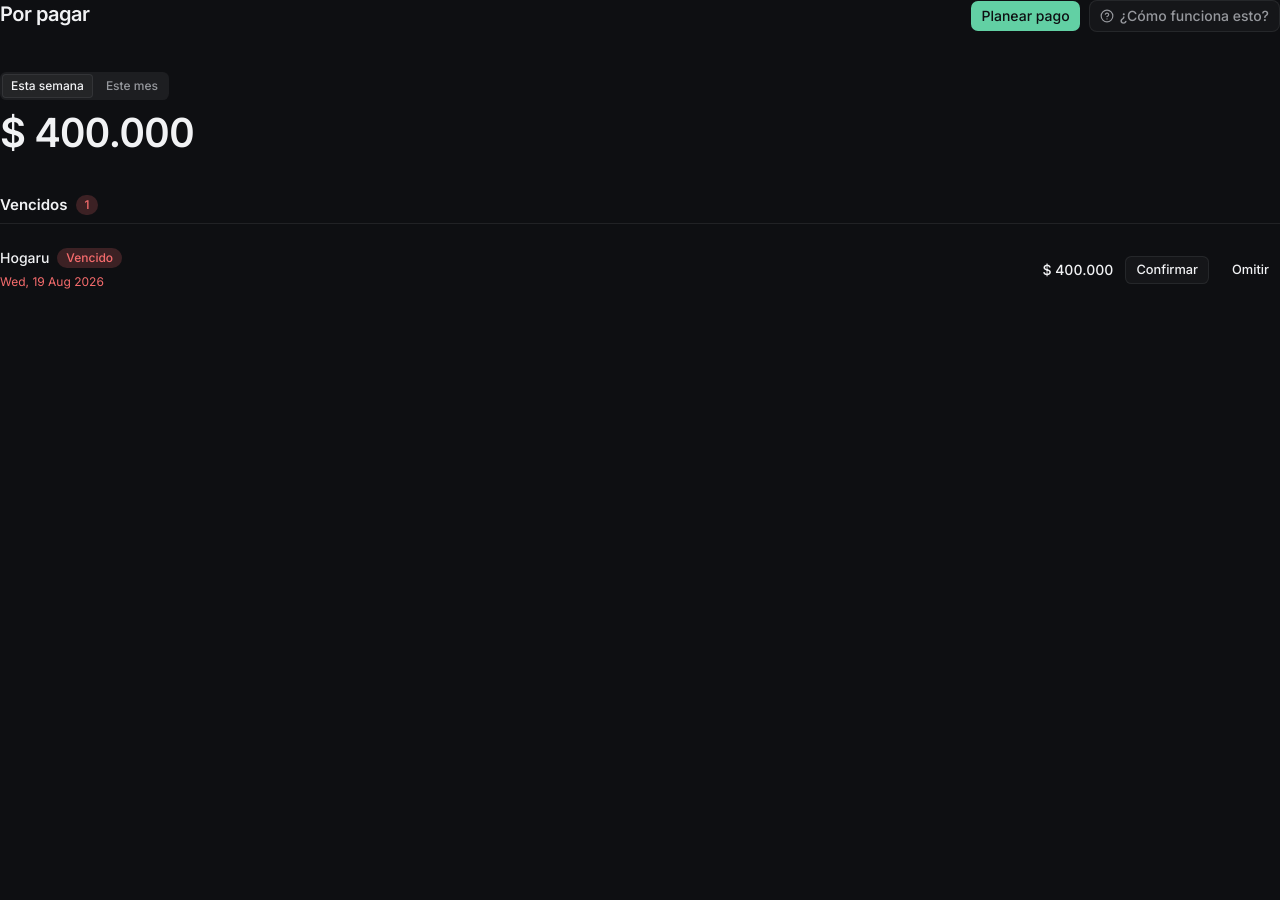
Test: 012 — confirming a payment says which account it came out of › The converted figure arrives already filled in
Click the button "Confirmar".
click(1167, 270)  # box [1125,256,1209,284]
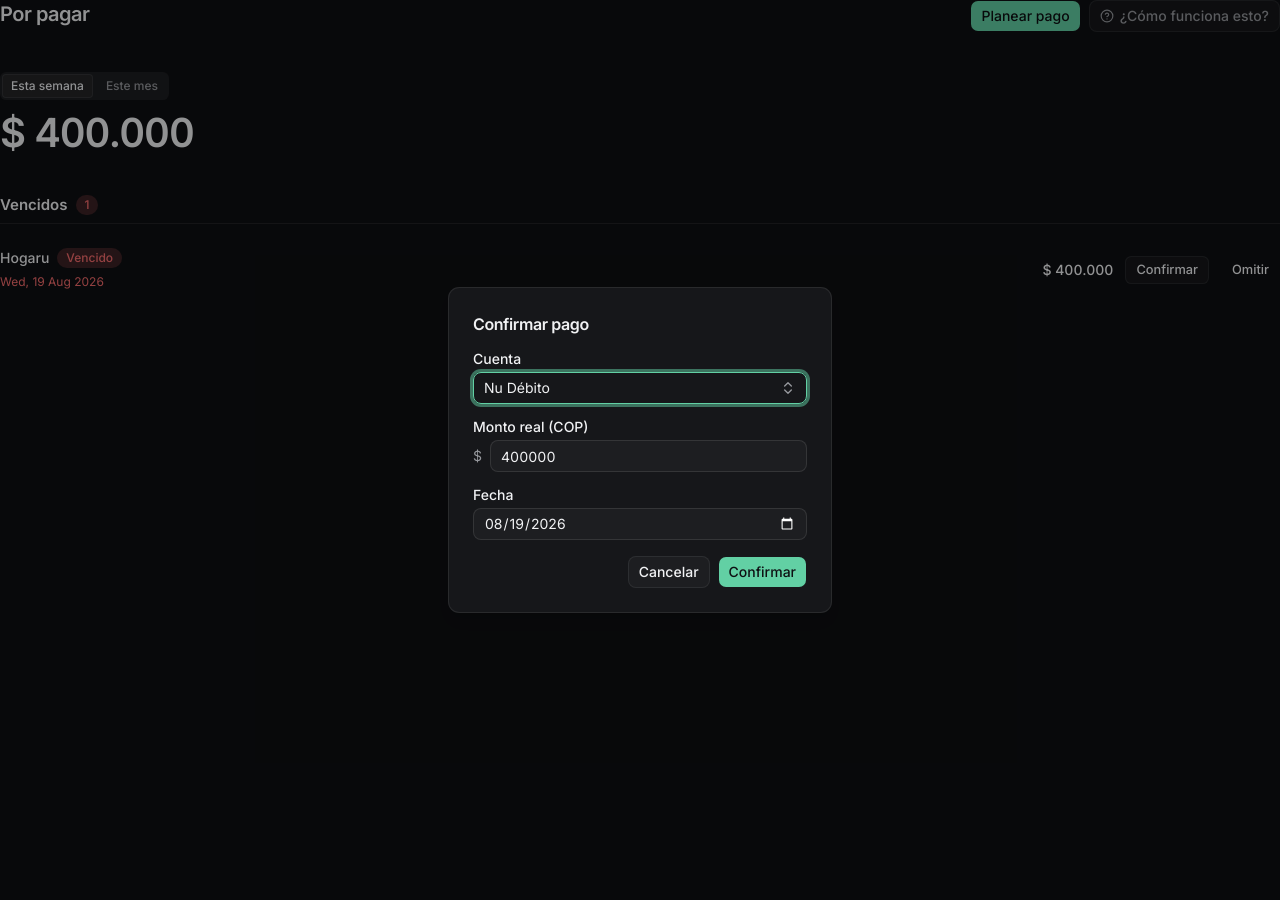
Expected: the dropdown named "Cuenta" reads "Nu Débito"
Click the dropdown named "Cuenta".
click(517, 388)  # box [473,372,807,404]
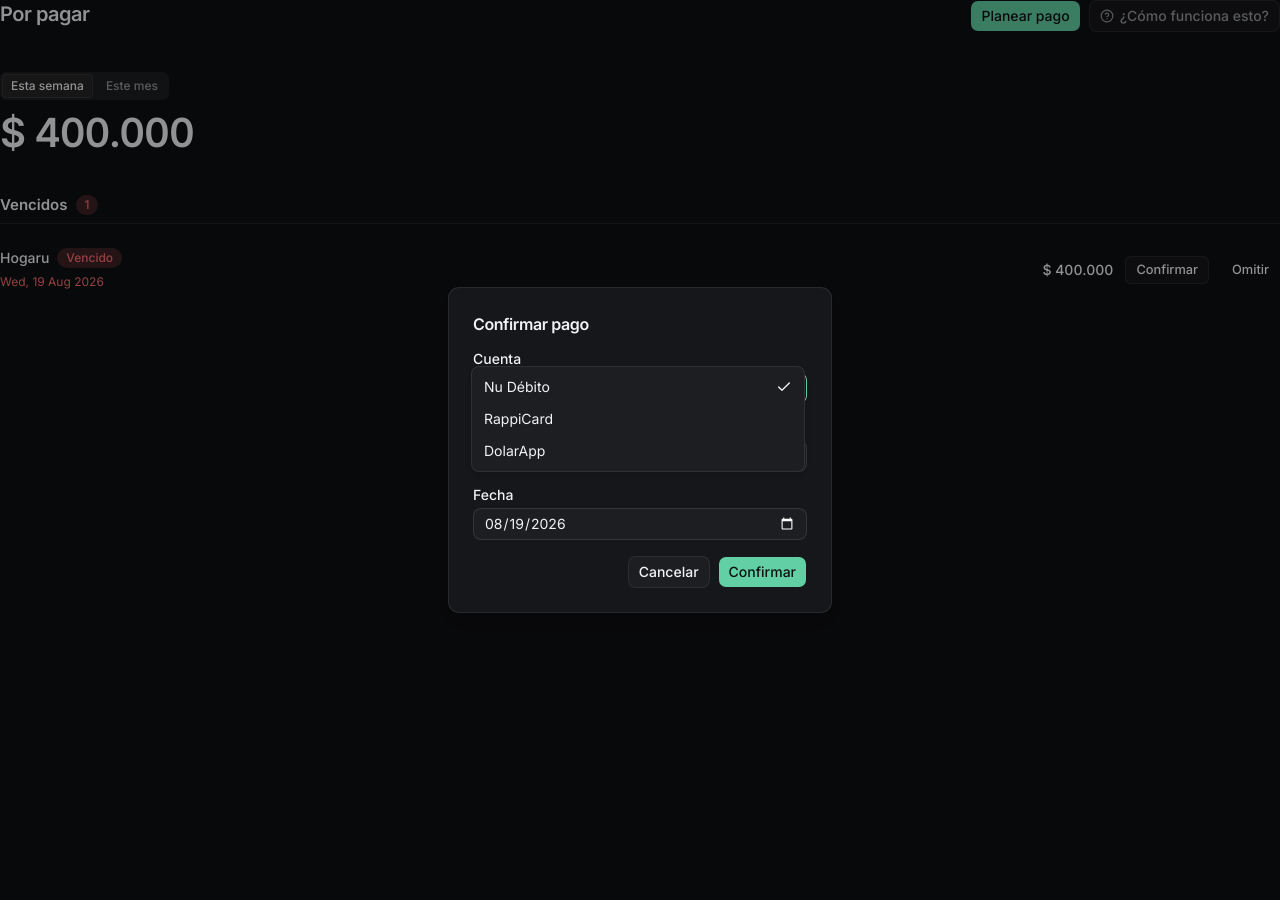
Click the option "DolarApp".
click(515, 450)  # box [484,442,545,459]
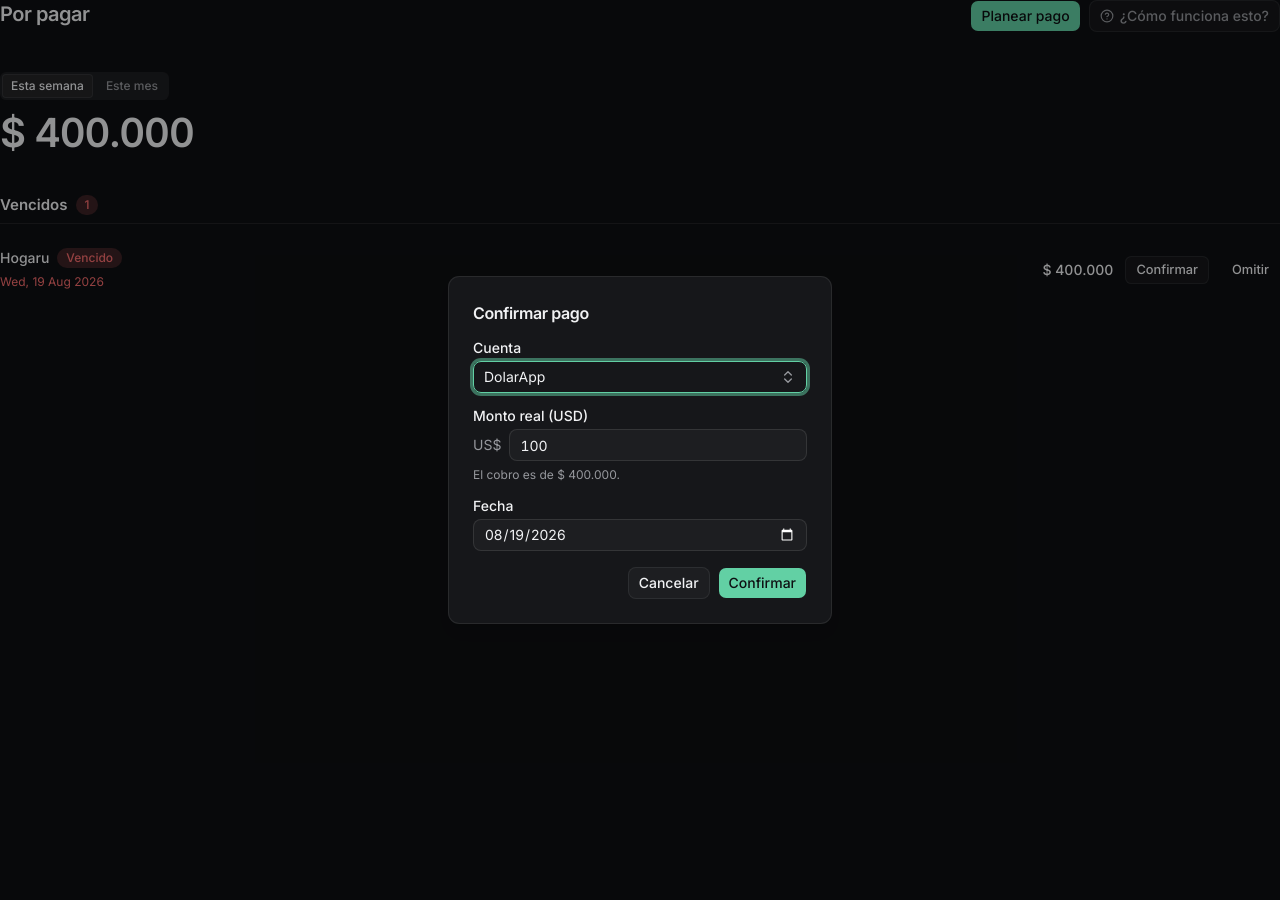
Expected: the field labelled "Monto real (USD)" holds "100", [509,429,807,461]
